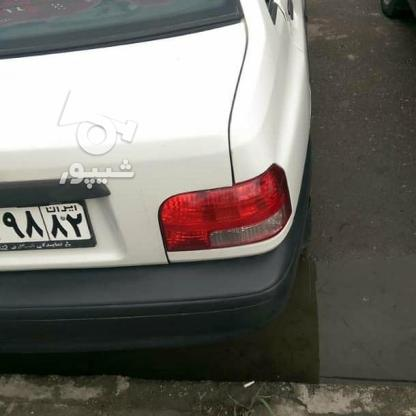car: (1, 200, 98, 251)
